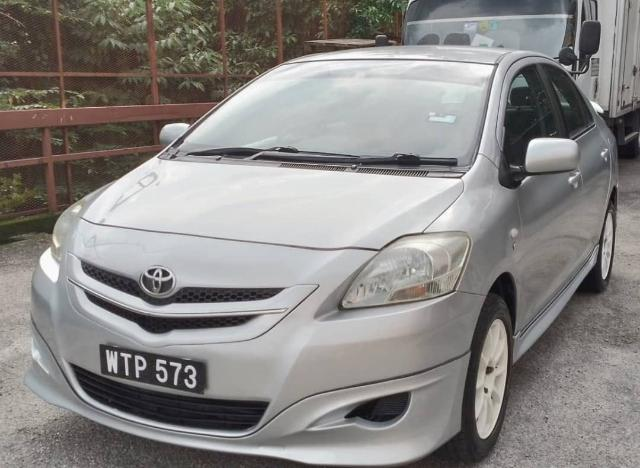License_Plate: (94, 341, 208, 398)
car: (24, 44, 616, 468)
